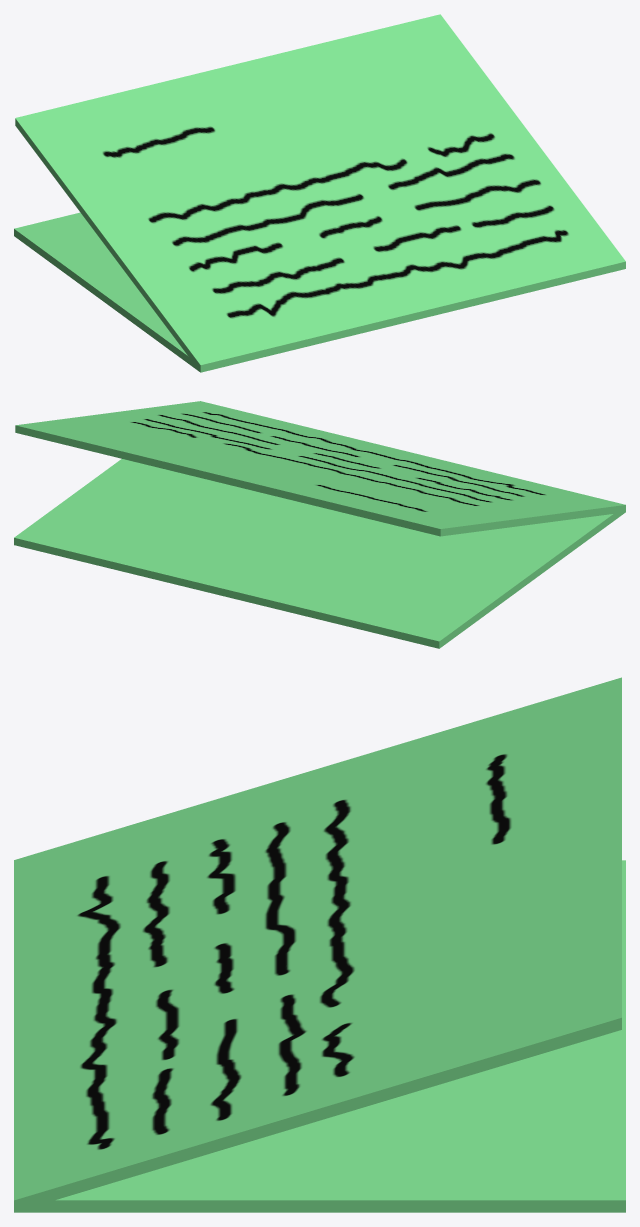
The model's file is Letter green textured.fbx.
3 renders of one model, top to bottom at view 1: azimuth 30°, elevation 25°; view 2: azimuth 150°, elevation 25°; view 3: azimuth 270°, elevation 25°, orthographic. The views are drawn at different scales.
Parts seen in each view (by area): view 1: Letter green; view 2: Letter green; view 3: Letter green.
Part boxes in pixels (x1,y1,x2,y2): Letter green: (14, 14, 625, 372); Letter green: (14, 401, 625, 648); Letter green: (14, 677, 625, 1212).
Bounding box in the file's own units: 28.8 × 7.7 × 21.89.
Materials: 2 (1 with a texture image).
